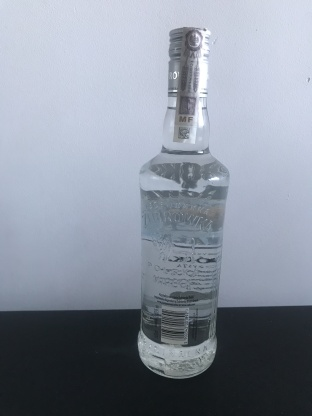nakretka: (165, 24, 213, 100)
